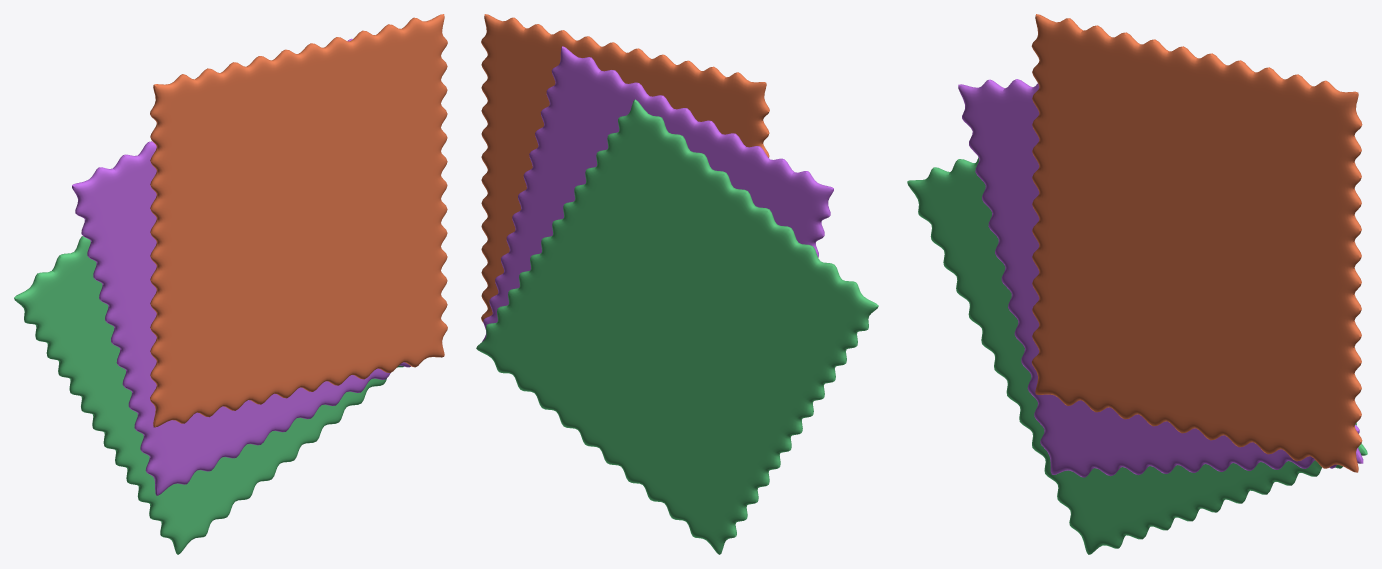
File: 16. Fabric Swatches.glb
The picture shows the model from 3 angles, left to right: view 1: azimuth 30°, elevation 25°; view 2: azimuth 150°, elevation 25°; view 3: azimuth 330°, elevation 25°; orthographic projection. The views are drawn at different scales.
Parts seen in each view (by area): view 1: Fabric, Fabric.001, Fabric.002; view 2: Fabric.002, Fabric.001, Fabric; view 3: Fabric, Fabric.002, Fabric.001.
Part boxes in pixels (x1,y1,x2,y2): Fabric: (150, 14, 447, 427); Fabric.001: (72, 38, 410, 495); Fabric.002: (14, 236, 403, 554); Fabric.002: (476, 99, 878, 554); Fabric.001: (482, 46, 833, 341); Fabric: (481, 14, 769, 322); Fabric: (1031, 14, 1362, 472); Fabric.002: (907, 157, 1367, 554); Fabric.001: (958, 79, 1363, 477).
Bounding box in the file's own units: 0.6659 × 0.7407 × 0.0473.
